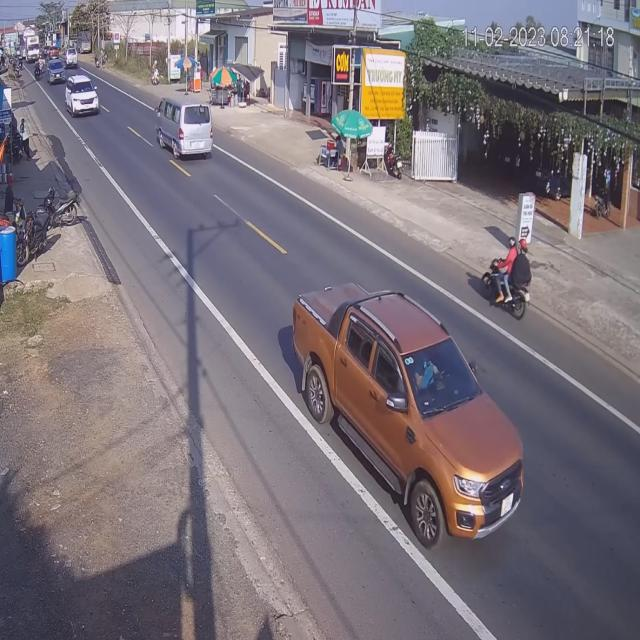car: (292, 290, 530, 554), (158, 90, 216, 161), (66, 74, 100, 118), (47, 57, 65, 86)
motorbike: (479, 236, 532, 321)
